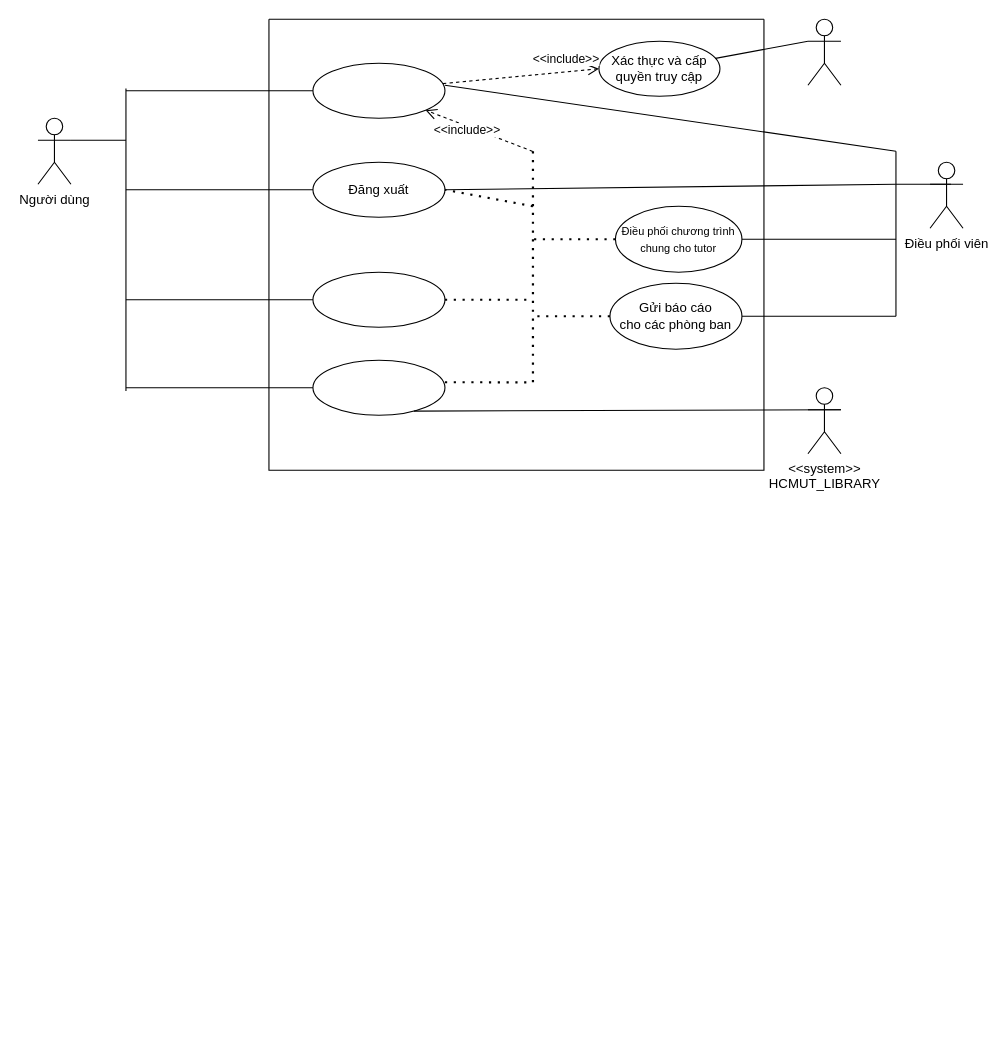
Image size: 1007x1038. Some labels were removed from this diagram. The shapes that lost their labels are listed below. From the top down, each one's box as (x1, y1, x2, y2) in pixels, then its label:
(807, 18, 841, 85): <<system>> HCMUT_SSO
(312, 62, 445, 118): Đăng nhập
(312, 271, 445, 327): Xem hồ sơ cá nhân
(312, 359, 445, 415): Xem tài lệu
